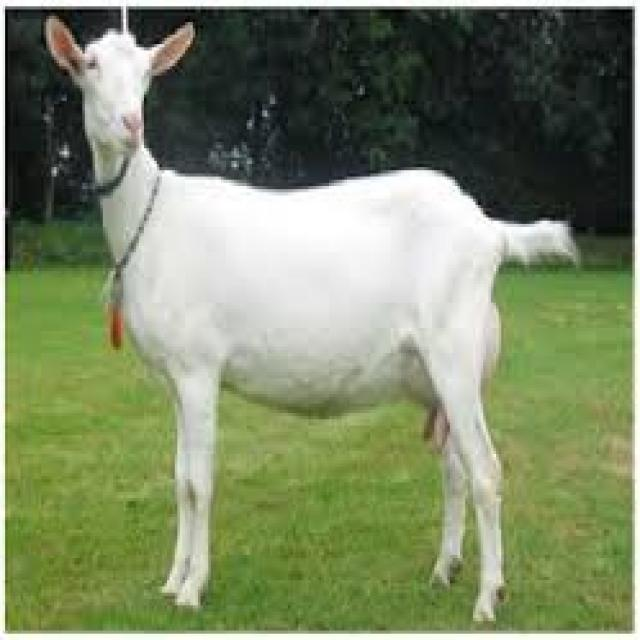Goat: (48, 19, 540, 618)
